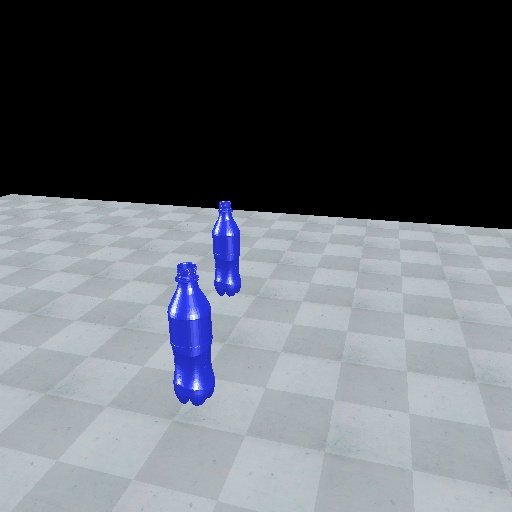bottle: (165, 260, 217, 407), (210, 197, 243, 298)
